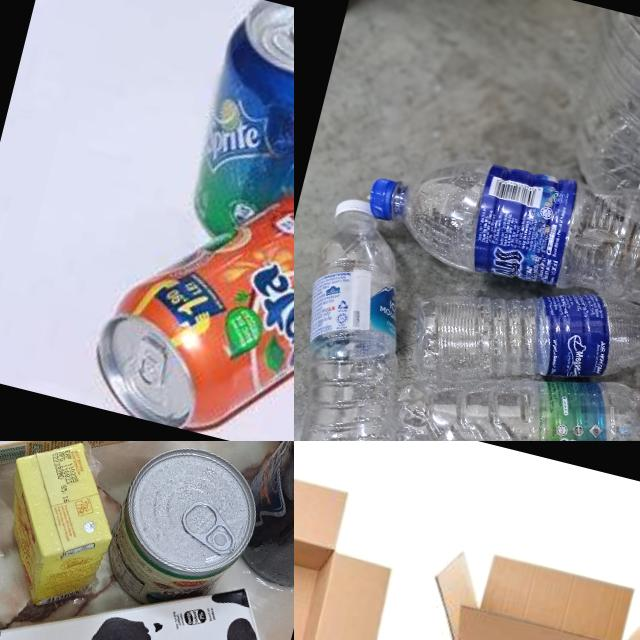aba de lata: (170, 490, 245, 562), (129, 337, 175, 394)
caixinha: (0, 501, 294, 640), (0, 441, 126, 614), (0, 441, 195, 493)
garrafa de vidro: (229, 441, 294, 590)
garrafa plástica: (386, 127, 640, 337), (401, 253, 640, 436), (294, 207, 445, 441), (380, 330, 640, 441), (386, 538, 640, 640), (294, 441, 414, 640), (556, 9, 640, 257)
lata: (78, 153, 294, 441), (100, 441, 268, 629), (180, 0, 294, 268)
tampa plástica: (332, 195, 382, 232), (366, 175, 401, 223)
